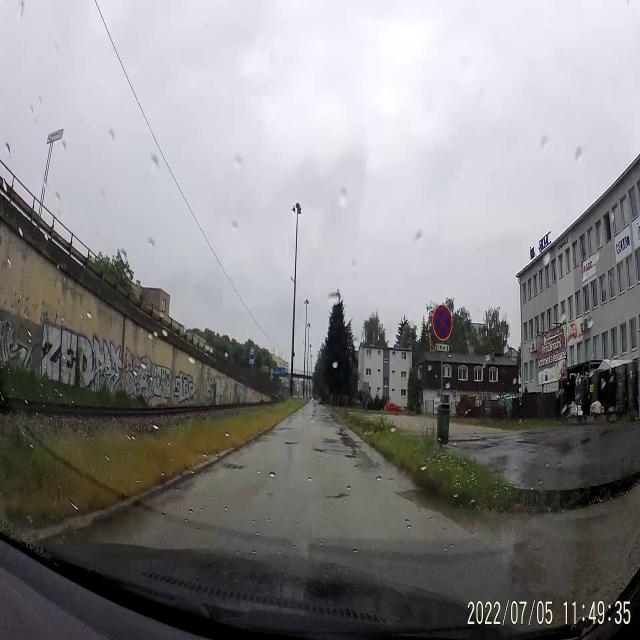Manhole: (221, 458, 246, 478)
Pothole: (325, 489, 355, 511), (280, 435, 308, 455), (312, 444, 328, 456), (346, 451, 356, 461)
